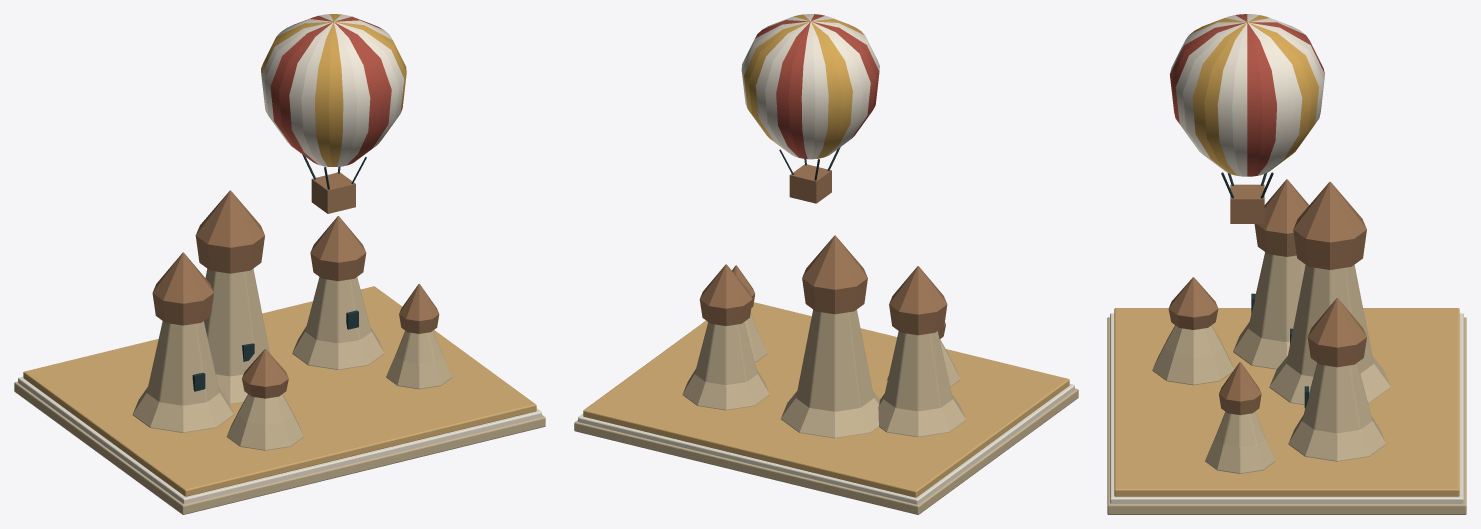
Rendered from cappadocia.glb.
3 renders of one model, left to right at view 1: azimuth 30°, elevation 25°; view 2: azimuth 150°, elevation 25°; view 3: azimuth 270°, elevation 25°, orthographic. The views are drawn at different scales.
Visible parts, largest first — view 1: cappadocia_sand, cappadocia_stone, cappadocia_bronze, cappadocia_ivory, cappadocia_brick, cappadocia_gold, cappadocia_ink; view 2: cappadocia_sand, cappadocia_stone, cappadocia_ivory, cappadocia_bronze, cappadocia_gold, cappadocia_brick; view 3: cappadocia_sand, cappadocia_stone, cappadocia_ivory, cappadocia_bronze, cappadocia_gold, cappadocia_brick, cappadocia_ink.
Boxes of the visible parts, bbox=[...] form: cappadocia_sand: bbox=[23, 286, 536, 496]; cappadocia_stone: bbox=[14, 268, 545, 514]; cappadocia_bronze: bbox=[152, 172, 439, 398]; cappadocia_ivory: bbox=[18, 14, 541, 503]; cappadocia_brick: bbox=[270, 15, 391, 165]; cappadocia_gold: bbox=[261, 14, 406, 166]; cappadocia_ink: bbox=[192, 154, 366, 391]; cappadocia_sand: bbox=[583, 302, 1069, 497]; cappadocia_stone: bbox=[574, 309, 1078, 514]; cappadocia_ivory: bbox=[578, 14, 1074, 504]; cappadocia_bronze: bbox=[699, 164, 947, 338]; cappadocia_gold: bbox=[744, 14, 864, 158]; cappadocia_brick: bbox=[755, 14, 879, 158]; cappadocia_sand: bbox=[1114, 308, 1459, 496]; cappadocia_stone: bbox=[1107, 252, 1466, 514]; cappadocia_ivory: bbox=[1110, 14, 1463, 503]; cappadocia_bronze: bbox=[1168, 179, 1366, 415]; cappadocia_gold: bbox=[1190, 15, 1318, 175]; cappadocia_brick: bbox=[1170, 14, 1324, 176]; cappadocia_ink: bbox=[1221, 172, 1308, 408].
Size of the model in its own units: 6.2 by 6.4 by 5.
